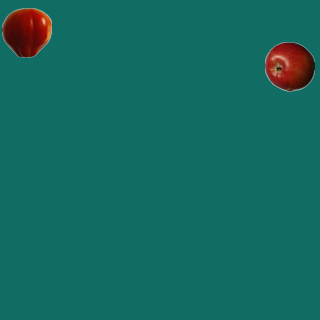Apple Braeburn: (264, 41, 314, 91)
Tomato 1: (1, 7, 51, 57)
